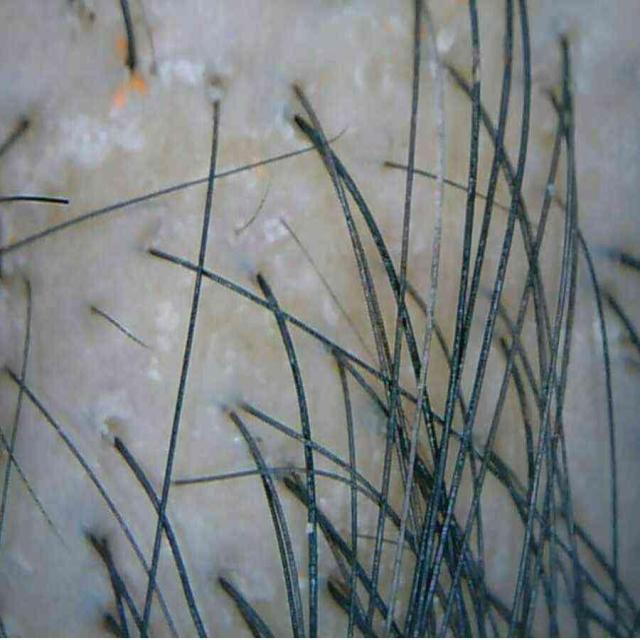d: (39, 116, 147, 169), (94, 392, 134, 446), (151, 295, 180, 354), (426, 19, 462, 57), (172, 50, 204, 88), (141, 355, 167, 389), (260, 218, 288, 242)
s: (109, 30, 154, 116)
